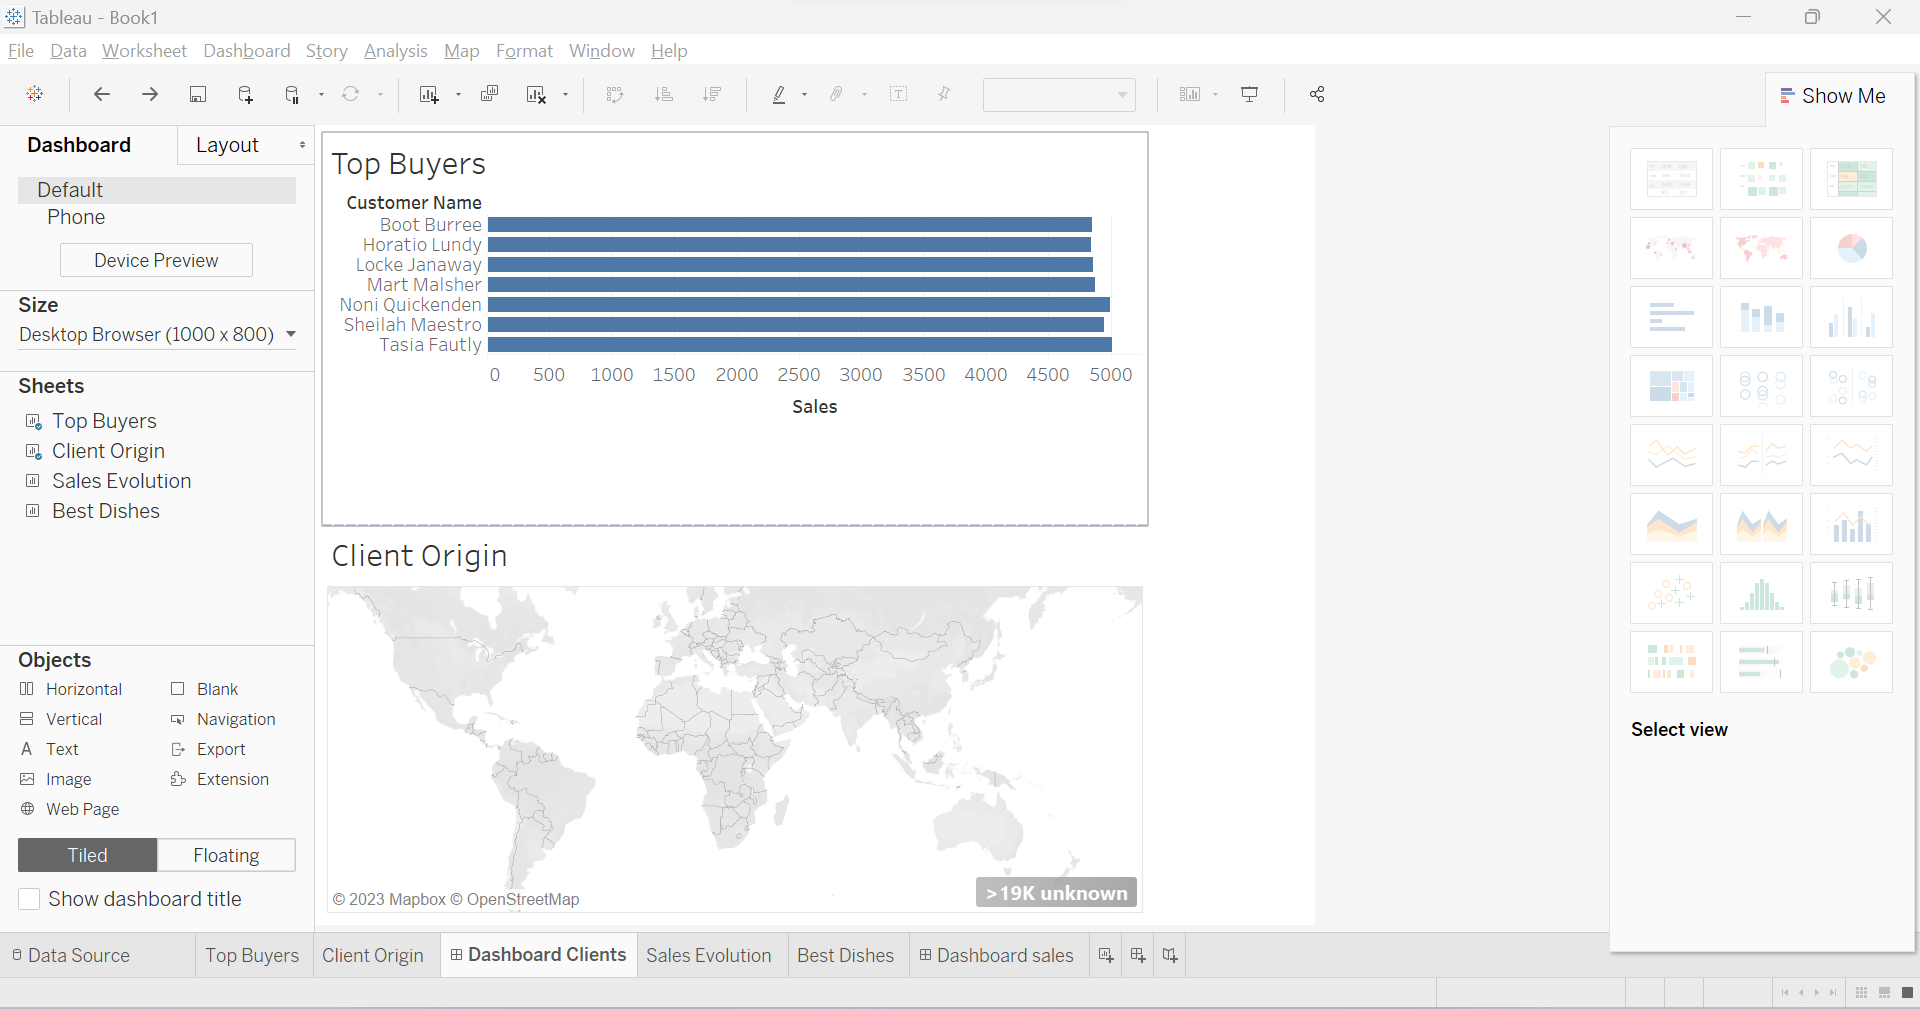

What the dashboard file says about the page in this screenshot:
{"tool":"tableau","page":{"name":"Dashboard Clients","canvas":[1000,800],"ordinal":0},"visuals":[{"type":"worksheet","title":"Top Buyers","mark":"Bar","rows":["Customer Name"],"cols":["Sales"],"box":[8,8,824,392]},{"type":"legend","title":"Top Buyers","param":"[federated.1pdunk40xzwhrd1alfblp0cgjkpx].[yr:Order Date:ok]","box":[832,8,160,27]},{"type":"worksheet","title":"Client Origin","mark":"Multipolygon","box":[8,400,824,392]}]}

Visuals, with their boxes on the page's 1000x800 design canvas (x1, y1, x2, y2). These are canvas units, not pixel positions in the 1920x1009 screenshot, which may show the page scaled, cropped or inside an application window:
"Top Buyers" worksheet (Bar marks): [left=8, top=8, right=832, bottom=400]
"Top Buyers" legend: [left=832, top=8, right=992, bottom=35]
"Client Origin" worksheet (Multipolygon marks): [left=8, top=400, right=832, bottom=792]
